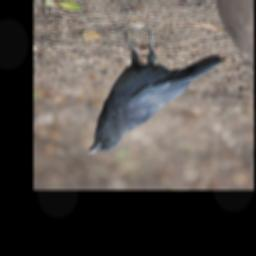Crow: (84, 25, 225, 154)
